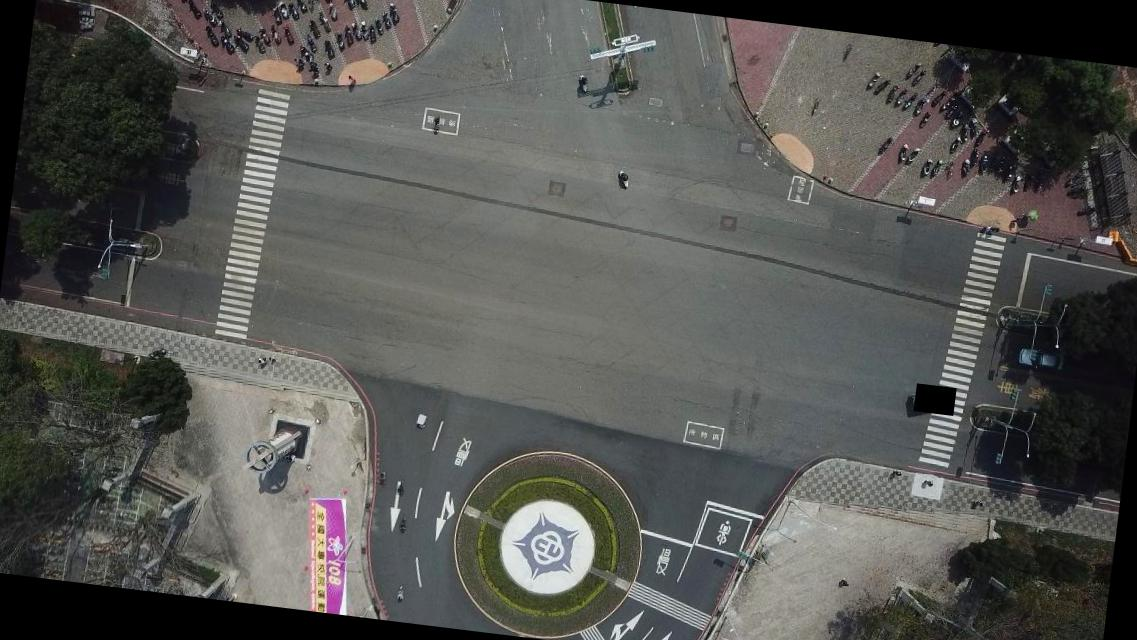vehicle: (1018, 349, 1066, 372)
